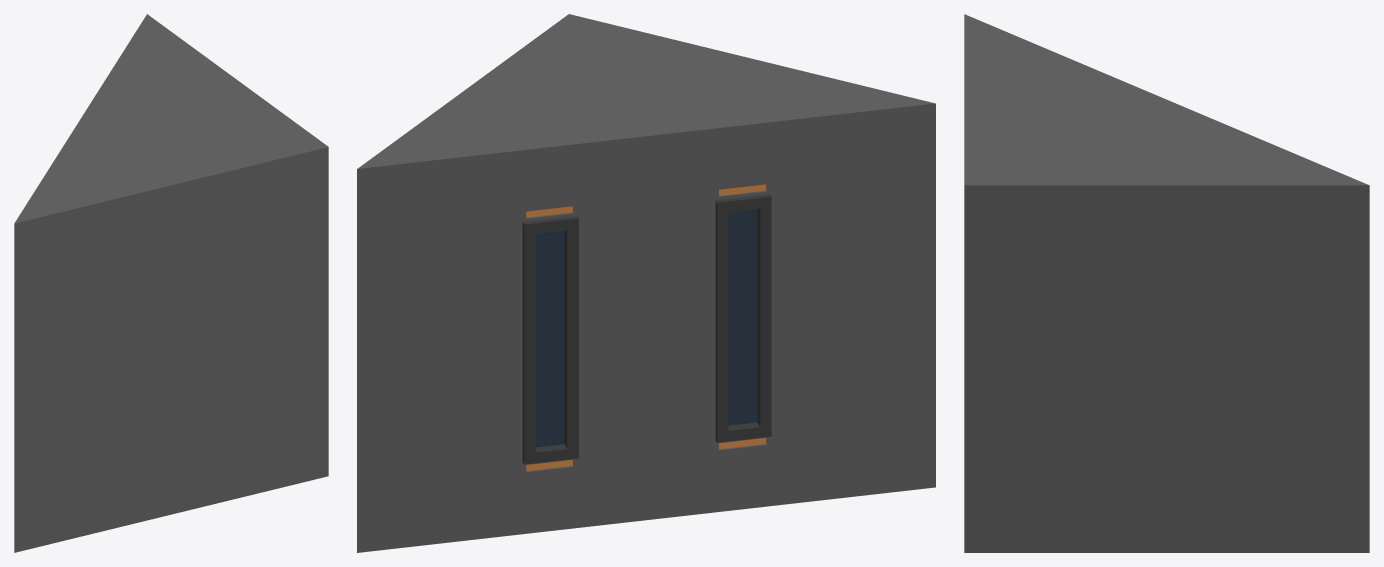
The model's file is Triangular_Prism_04.FBX.
The picture shows the model from 3 angles, left to right: view 1: azimuth 30°, elevation 25°; view 2: azimuth 150°, elevation 25°; view 3: azimuth 270°, elevation 25°; orthographic projection. The views are drawn at different scales.
Visible parts, largest first — view 1: Triangular_Prism_04_LOD0; view 2: Triangular_Prism_04_LOD0; view 3: Triangular_Prism_04_LOD0.
Boxes of the visible parts, x1,y1,x2,y2 form: Triangular_Prism_04_LOD0: (14, 14, 328, 552); Triangular_Prism_04_LOD0: (357, 14, 935, 552); Triangular_Prism_04_LOD0: (964, 14, 1369, 552).
Size of what is drawn, in the model's own units: 180 by 180 by 180.
